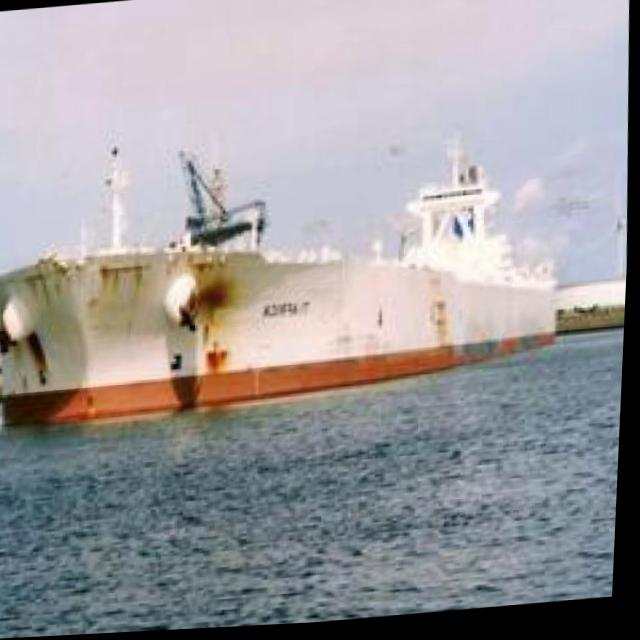ship2: (0, 141, 561, 428)
